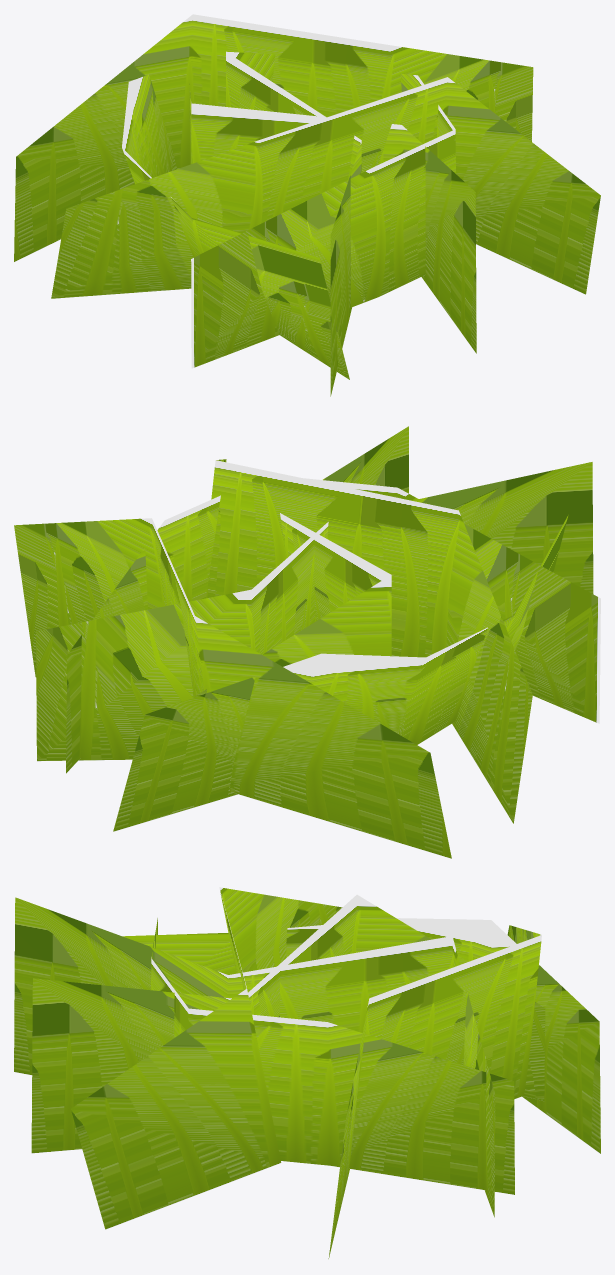
Rendered from SM_Grass_Medium01_Unity.fbx.
3 views of the same model, one above another, from view 1: azimuth 30°, elevation 25°; view 2: azimuth 150°, elevation 25°; view 3: azimuth 270°, elevation 25° (orthographic). The views are drawn at different scales.
Parts seen in each view (by area): view 1: Grass_Medium01_LOD0; view 2: Grass_Medium01_LOD0; view 3: Grass_Medium01_LOD0.
Boxes of the visible parts, x1,y1,x2,y2 form: Grass_Medium01_LOD0: (14, 14, 600, 396); Grass_Medium01_LOD0: (14, 426, 600, 858); Grass_Medium01_LOD0: (14, 887, 600, 1258).
Size of what is drawn, in the model's own units: 1.48 by 0.5923 by 1.51.
